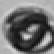correct: (2, 3, 54, 54)
